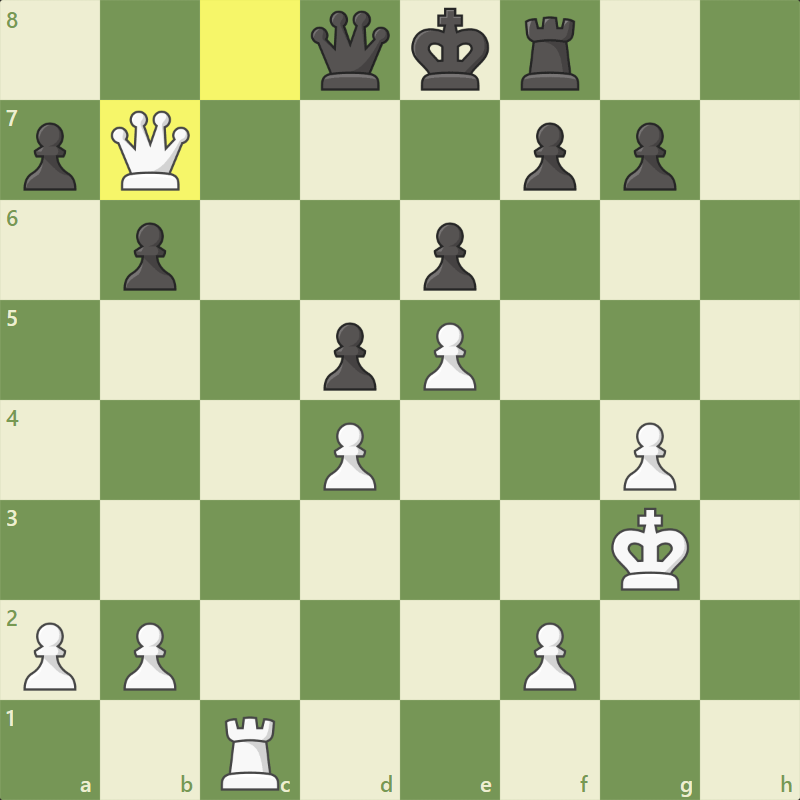K: (608, 506, 692, 595)
P: (18, 619, 81, 694), (117, 620, 180, 695), (517, 620, 580, 695), (318, 420, 381, 495), (617, 420, 680, 495), (417, 320, 480, 395)
Q: (109, 108, 193, 193)
R: (220, 712, 282, 793)
k: (408, 5, 493, 93)
p: (320, 320, 380, 393), (419, 221, 479, 294), (519, 122, 579, 195), (619, 121, 679, 194), (120, 220, 180, 293), (19, 121, 79, 194)
q: (307, 7, 392, 94)
r: (518, 14, 582, 94)
